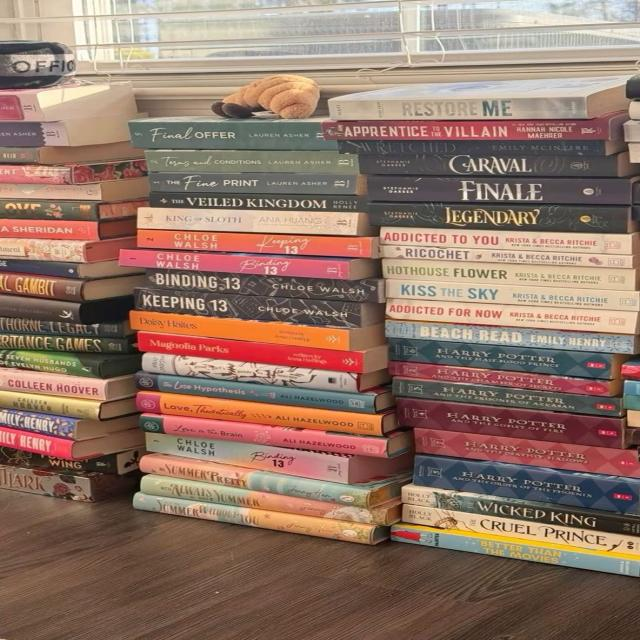book: (416, 427, 638, 478), (139, 372, 399, 414), (145, 431, 348, 483), (143, 416, 386, 458), (131, 289, 385, 328), (386, 336, 638, 374), (390, 337, 612, 380), (396, 377, 623, 417), (359, 174, 636, 206), (377, 260, 640, 293), (393, 360, 612, 396), (345, 152, 636, 176), (140, 150, 359, 172), (145, 173, 369, 194), (1, 200, 108, 223), (142, 339, 226, 354)
